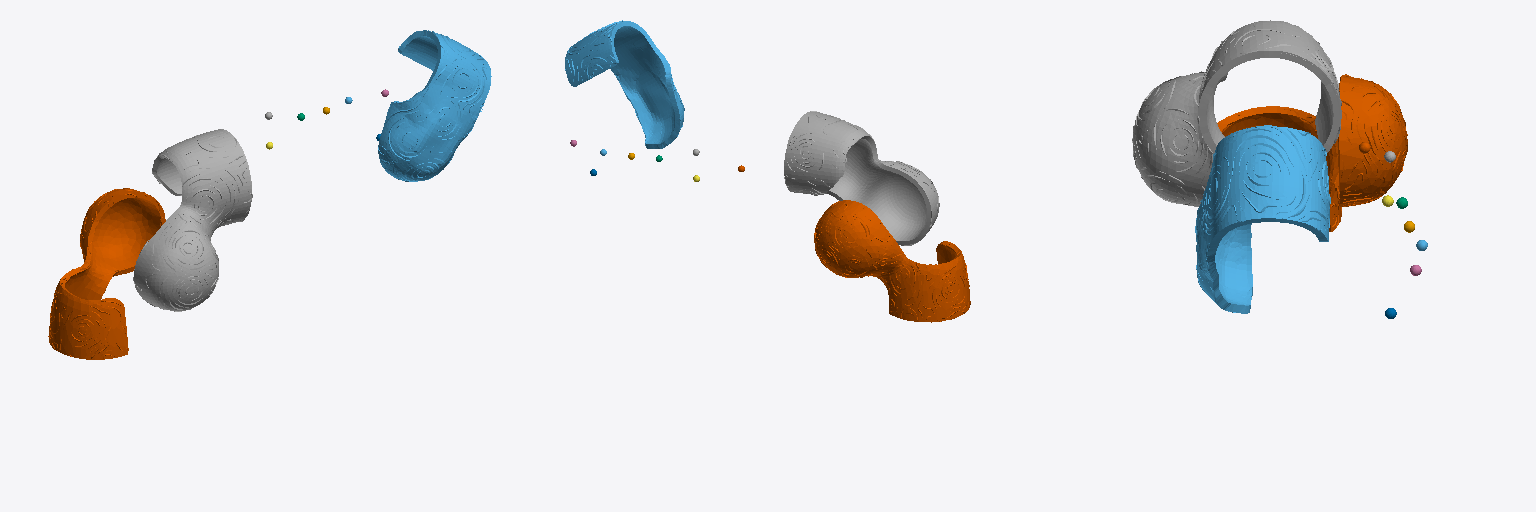
--- Facts derived from the render (not from the file) ---
3 views of the same robot in one strip: view 1: azimuth 30°, elevation 25°; view 2: azimuth 150°, elevation 25°; view 3: azimuth 270°, elevation 25° (orthographic).
Robot: fr3 — 49 links, 48 joints (7 revolute, 41 fixed); root link base; default pose: all joints at 0 but 2 set to mid-range because 0 is outside their limits (fr3_joint4 = -1.6, fr3_joint6 = 2.53).
Links seen in each view (by area): view 1: link4_skin, link3_skin, link6_skin; view 2: link4_skin, link3_skin, link6_skin; view 3: link6_skin, link4_skin, link3_skin.
Boxes of the visible links, x1,y1,x2,y2 form: link4_skin: (133, 129, 252, 311); link3_skin: (48, 188, 165, 359); link6_skin: (378, 30, 491, 181); link4_skin: (784, 111, 939, 245); link3_skin: (814, 200, 970, 322); link6_skin: (565, 20, 684, 148); link6_skin: (1195, 125, 1330, 313); link4_skin: (1132, 20, 1341, 206); link3_skin: (1217, 74, 1407, 231).
Bounding box of the posed robot: 0.6435 × 0.2543 × 0.5748 m (x, y, z).
3 mesh visuals loaded from 13 distinct referenced files (3 binary STL); not drawn: 10 (reference not matched to a file when rendering).

robot.urdf — fr3:
<?xml version="1.0" ?>
<!-- =================================================================================== -->
<!-- |    This document was autogenerated by xacro from [local-path]/ros2_ws/install/gentact_ros_tools/share/gentact_ros_tools/urdf/robot/fr3_full_skin.xacro | -->
<!-- |    EDITING THIS FILE BY HAND IS NOT RECOMMENDED                                 | -->
<!-- =================================================================================== -->
<!-- =================================================================================== -->
<!-- |    This document was autogenerated by xacro from fr3.urdf.xacro                 | -->
<!-- |    EDITING THIS FILE BY HAND IS NOT RECOMMENDED                                 | -->
<!-- =================================================================================== -->
<robot name="fr3">
  <!-- safety_distance: Minimum safety distance in [m] by which the collision volumes are expanded and which is enforced during robot motions -->
  <!-- arm_id: Namespace of the robot arm. Serves to differentiate between arms in case of multiple instances. -->
  <!-- joint_limits: description of the joint limits that comes from a YAML file. Example definition: ${xacro.load_yaml('$(find gentact_ros_tools)/robots/fr3/joint_limits.yaml')} -->
  <!-- kinematics: description of the kinematics that comes from a YAML file. Example definition: ${xacro.load_yaml('$(find gentact_ros_tools)/robots/fr3/kinematics.yaml')} -->
  <!-- inertials: description of the inertials that comes from a YAML file. Example definition: ${xacro.load_yaml('$(find gentact_ros_tools)/robots/fr3/inertials.yaml')} -->
  <!-- dynamics: description of the dynamics that comes from a YAML file. Example definition: ${xacro.load_yaml('$(find gentact_ros_tools)/robots/fr3/dynamics.yaml')} -->
  <link name="base">
      </link>
  <joint name="fr3_base_joint" type="fixed">
    <parent link="base"/>
    <child link="fr3_link0"/>
    <origin rpy="0 0 0" xyz="0 0 0"/>
  </joint>
  <!-- sub-link defining detailed meshes for collision with environment -->
  <link name="fr3_link0">
    <visual name="fr3_link0_visual">
      <geometry>
        <mesh filename="package://gentact_ros_tools/meshes/robot_arms/fr3/visual/link0.dae"/>
      </geometry>
    </visual>
    <collision name="fr3_link0_collision">
      <geometry>
        <mesh filename="package://gentact_ros_tools/meshes/robot_arms/fr3/collision/link0.stl"/>
      </geometry>
    </collision>
    <inertial>
      <origin rpy="0 0 0" xyz="-0.0172 0.0004 0.0745"/>
      <mass value="2.3966"/>
      <inertia ixx="0.009" ixy="0.0" ixz="0.002" iyy="0.0115" iyz="0.0" izz="0.0085"/>
    </inertial>
  </link>
  <!-- sub-link defining detailed meshes for collision with environment -->
  <link name="fr3_link1">
    <visual name="fr3_link1_visual">
      <geometry>
        <mesh filename="package://gentact_ros_tools/meshes/robot_arms/fr3/visual/link1.dae"/>
      </geometry>
    </visual>
    <collision name="fr3_link1_collision">
      <geometry>
        <mesh filename="package://gentact_ros_tools/meshes/robot_arms/fr3/collision/link1.stl"/>
      </geometry>
    </collision>
    <inertial>
      <origin rpy="0 0 0" xyz="0.0000004128 -0.0181251324 -0.0386035970"/>
      <mass value="2.9274653454"/>
      <inertia ixx="0.023927316485107913" ixy="1.3317903455714081e-05" ixz="-0.00011404774918616684" iyy="0.0224821613275756" iyz="-0.0019950320628240115" izz="0.006350098258530016"/>
    </inertial>
  </link>
  <joint name="fr3_joint1" type="revolute">
    <origin rpy="0 0 0" xyz="0 0 0.333"/>
    <parent link="fr3_link0"/>
    <child link="fr3_link1"/>
    <axis xyz="0 0 1"/>
    <limit effort="87.0" lower="-2.7437" upper="2.7437" velocity="2.62"/>
    <safety_controller k_position="100.0" k_velocity="40.0" soft_lower_limit="-2.7437" soft_upper_limit="2.7437"/>
    <dynamics D="1" K="7000" damping="0.003" friction="0.2" mu_coulomb="0" mu_viscous="16"/>
  </joint>
  <!-- sub-link defining detailed meshes for collision with environment -->
  <link name="fr3_link2">
    <visual name="fr3_link2_visual">
      <geometry>
        <mesh filename="package://gentact_ros_tools/meshes/robot_arms/fr3/visual/link2.dae"/>
      </geometry>
    </visual>
    <collision name="fr3_link2_collision">
      <geometry>
        <mesh filename="package://gentact_ros_tools/meshes/robot_arms/fr3/collision/link2.stl"/>
      </geometry>
    </collision>
    <inertial>
      <origin rpy="0 0 0" xyz="0.0031828864 -0.0743221644 0.0088146084"/>
      <mass value="2.9355370338"/>
      <inertia ixx="0.041938946257609425" ixy="0.00020257331521090626" ixz="0.004077784227179924" iyy="0.02514514885014724" iyz="-0.0042252158006570156" izz="0.06170214472888839"/>
    </inertial>
  </link>
  <joint name="fr3_joint2" type="revolute">
    <origin rpy="-1.570796326794897 0 0" xyz="0 0 0"/>
    <parent link="fr3_link1"/>
    <child link="fr3_link2"/>
    <axis xyz="0 0 1"/>
    <limit effort="87.0" lower="-1.7837" upper="1.7837" velocity="2.62"/>
    <safety_controller k_position="100.0" k_velocity="40.0" soft_lower_limit="-1.7837" soft_upper_limit="1.7837"/>
    <dynamics D="1" K="7000" damping="0.003" friction="0.2" mu_coulomb="0" mu_viscous="16"/>
  </joint>
  <!-- [m] -->
  <link name="link2_skin">
    <visual>
      <origin rpy="0 0 0" xyz="0 0 0"/>
      <geometry>
        <mesh filename="package://gentact_ros_tools/meshes/skin/self-cap/link2_fancy.stl" scale="1 1 1"/>
      </geometry>
    </visual>
  </link>
  <joint name="link2_base_joint" type="fixed">
    <origin rpy="1.5707 0 0" xyz="0 0 0"/>
    <parent link="fr3_link2"/>
    <child link="link2_skin"/>
  </joint>
  <joint name="link2_sensor_3_joint" type="fixed">
    <origin rpy="1.670 -0.000 -2.166" xyz="-0.048 0.113 -0.006"/>
    <axis xyz="-0.824 0.558 -0.099"/>
    <parent link="link2_skin"/>
    <child link="link2_sensor_3"/>
  </joint>
  <link name="link2_sensor_3">
    <visual>
      <geometry>
        <sphere radius="0.0"/>
        <!-- [m] -->
      </geometry>
    </visual>
    <collision>
      <geometry>
        <sphere radius="0.0"/>
        <!-- [m] -->
      </geometry>
    </collision>
  </link>
  <joint name="link2_sensor_2_joint" type="fixed">
    <origin rpy="1.526 -0.000 2.508" xyz="0.032 0.053 0.147"/>
    <axis xyz="0.592 0.805 0.044"/>
    <parent link="link2_skin"/>
    <child link="link2_sensor_2"/>
  </joint>
  <link name="link2_sensor_2">
    <visual>
      <geometry>
        <sphere radius="0.0"/>
        <!-- [m] -->
      </geometry>
    </visual>
    <collision>
      <geometry>
        <sphere radius="0.0"/>
        <!-- [m] -->
      </geometry>
    </collision>
  </link>
  <joint name="link2_sensor_0_joint" type="fixed">
    <origin rpy="1.549 -0.000 -2.303" xyz="-0.046 0.040 0.162"/>
    <axis xyz="-0.744 0.668 0.022"/>
    <parent link="link2_skin"/>
    <child link="link2_sensor_0"/>
  </joint>
  <link name="link2_sensor_0">
    <visual>
      <geometry>
        <sphere radius="0.0"/>
        <!-- [m] -->
      </geometry>
    </visual>
    <collision>
      <geometry>
        <sphere radius="0.0"/>
        <!-- [m] -->
      </geometry>
    </collision>
  </link>
  <joint name="link2_sensor_4_joint" type="fixed">
    <origin rpy="1.513 -0.000 2.207" xyz="0.050 0.110 0.007"/>
    <axis xyz="0.803 0.593 0.058"/>
    <parent link="link2_skin"/>
    <child link="link2_sensor_4"/>
  </joint>
  <link name="link2_sensor_4">
    <visual>
      <geometry>
        <sphere radius="0.0"/>
        <!-- [m] -->
      </geometry>
    </visual>
    <collision>
      <geometry>
        <sphere radius="0.0"/>
        <!-- [m] -->
      </geometry>
    </collision>
  </link>
  <joint name="link2_sensor_1_joint" type="fixed">
    <origin rpy="1.107 0.000 3.050" xyz="0.004 0.074 0.093"/>
    <axis xyz="0.081 0.89 0.448"/>
    <parent link="link2_skin"/>
    <child link="link2_sensor_1"/>
  </joint>
  <link name="link2_sensor_1">
    <visual>
      <geometry>
        <sphere radius="0.0"/>
        <!-- [m] -->
      </geometry>
    </visual>
    <collision>
      <geometry>
        <sphere radius="0.0"/>
        <!-- [m] -->
      </geometry>
    </collision>
  </link>
  <joint name="link2_sensor_5_joint" type="fixed">
    <origin rpy="0.869 -0.000 3.063" xyz="0.001 0.117 0.045"/>
    <axis xyz="0.06 0.761 0.646"/>
    <parent link="link2_skin"/>
    <child link="link2_sensor_5"/>
  </joint>
  <link name="link2_sensor_5">
    <visual>
      <geometry>
        <sphere radius="0.0"/>
        <!-- [m] -->
      </geometry>
    </visual>
    <collision>
      <geometry>
        <sphere radius="0.0"/>
        <!-- [m] -->
      </geometry>
    </collision>
  </link>
  <joint name="link2_sensor_6_joint" type="fixed">
    <origin rpy="-0.676 -3.142 -0.578" xyz="0.019 0.111 -0.046"/>
    <axis xyz="0.342 0.524 -0.78"/>
    <parent link="link2_skin"/>
    <child link="link2_sensor_6"/>
  </joint>
  <link name="link2_sensor_6">
    <visual>
      <geometry>
        <sphere radius="0.0"/>
        <!-- [m] -->
      </geometry>
    </visual>
    <collision>
      <geometry>
        <sphere radius="0.0"/>
        <!-- [m] -->
      </geometry>
    </collision>
  </link>
  <!-- sub-link defining detailed meshes for collision with environment -->
  <link name="fr3_link3">
    <visual name="fr3_link3_visual">
      <geometry>
        <mesh filename="package://gentact_ros_tools/meshes/robot_arms/fr3/visual/link3.dae"/>
      </geometry>
    </visual>
    <collision name="fr3_link3_collision">
      <geometry>
        <mesh filename="package://gentact_ros_tools/meshes/robot_arms/fr3/collision/link3.stl"/>
      </geometry>
    </collision>
    <inertial>
      <origin rpy="0 0 0" xyz="0.0407015686 -0.0048200565 -0.0289730823"/>
      <mass value="2.2449013699"/>
      <inertia ixx="0.02410142547240885" ixy="0.002404694559042109" ixz="-0.002856269270114313" iyy="0.01974053266708178" iyz="-0.002104212683891874" izz="0.019044494482244823"/>
    </inertial>
  </link>
  <joint name="fr3_joint3" type="revolute">
    <origin rpy="1.570796326794897 0 0" xyz="0 -0.316 0"/>
    <parent link="fr3_link2"/>
    <child link="fr3_link3"/>
    <axis xyz="0 0 1"/>
    <limit effort="87.0" lower="-2.9007" upper="2.9007" velocity="2.62"/>
    <safety_controller k_position="100.0" k_velocity="40.0" soft_lower_limit="-2.9007" soft_upper_limit="2.9007"/>
    <dynamics D="1" K="7000" damping="0.003" friction="0.2" mu_coulomb="0" mu_viscous="16"/>
  </joint>
  <!-- [m] -->
  <link name="link3_skin">
    <visual>
      <origin rpy="0 0 0" xyz="0 0 0"/>
      <geometry>
        <mesh filename="package://gentact_ros_tools/meshes/skin/self-cap/link3_fancy.stl" scale="1 1 1"/>
      </geometry>
    </visual>
  </link>
  <joint name="link3_base_joint" type="fixed">
    <origin rpy="0 0 0" xyz="0 0 0"/>
    <parent link="fr3_link3"/>
    <child link="link3_skin"/>
  </joint>
  <joint name="link3_sensor_5_joint" type="fixed">
    <origin rpy="1.392 0.000 -3.082" xyz="0.008 0.051 -0.043"/>
    <axis xyz="-0.059 0.982 0.178"/>
    <parent link="link3_skin"/>
    <child link="link3_sensor_5"/>
  </joint>
  <link name="link3_sensor_5">
    <visual>
      <geometry>
        <sphere radius="0.0"/>
        <!-- [m] -->
      </geometry>
    </visual>
    <collision>
      <geometry>
        <sphere radius="0.0"/>
        <!-- [m] -->
      </geometry>
    </collision>
  </link>
  <joint name="link3_sensor_2_joint" type="fixed">
    <origin rpy="1.768 -0.000 2.918" xyz="0.097 0.113 -0.015"/>
    <axis xyz="0.217 0.956 -0.196"/>
    <parent link="link3_skin"/>
    <child link="link3_sensor_2"/>
  </joint>
  <link name="link3_sensor_2">
    <visual>
      <geometry>
        <sphere radius="0.0"/>
        <!-- [m] -->
      </geometry>
    </visual>
    <collision>
      <geometry>
        <sphere radius="0.0"/>
        <!-- [m] -->
      </geometry>
    </collision>
  </link>
  <joint name="link3_sensor_1_joint" type="fixed">
    <origin rpy="1.433 0.000 -0.799" xyz="-0.041 -0.037 -0.071"/>
    <axis xyz="-0.71 -0.691 0.137"/>
    <parent link="link3_skin"/>
    <child link="link3_sensor_1"/>
  </joint>
  <link name="link3_sensor_1">
    <visual>
      <geometry>
        <sphere radius="0.0"/>
        <!-- [m] -->
      </geometry>
    </visual>
    <collision>
      <geometry>
        <sphere radius="0.0"/>
        <!-- [m] -->
      </geometry>
    </collision>
  </link>
  <joint name="link3_sensor_6_joint" type="fixed">
    <origin rpy="1.189 -0.000 2.713" xyz="0.107 0.106 0.026"/>
    <axis xyz="0.386 0.844 0.373"/>
    <parent link="link3_skin"/>
    <child link="link3_sensor_6"/>
  </joint>
  <link name="link3_sensor_6">
    <visual>
      <geometry>
        <sphere radius="0.0"/>
        <!-- [m] -->
      </geometry>
    </visual>
    <collision>
      <geometry>
        <sphere radius="0.0"/>
        <!-- [m] -->
      </geometry>
    </collision>
  </link>
  <joint name="link3_sensor_7_joint" type="fixed">
    <origin rpy="1.084 -0.000 -2.868" xyz="0.067 0.106 0.031"/>
    <axis xyz="-0.239 0.851 0.468"/>
    <parent link="link3_skin"/>
    <child link="link3_sensor_7"/>
  </joint>
  <link name="link3_sensor_7">
    <visual>
      <geometry>
        <sphere radius="0.0"/>
        <!-- [m] -->
      </geometry>
    </visual>
    <collision>
      <geometry>
        <sphere radius="0.0"/>
        <!-- [m] -->
      </geometry>
    </collision>
  </link>
  <joint name="link3_sensor_4_joint" type="fixed">
    <origin rpy="1.838 0.000 -2.747" xyz="0.057 0.108 -0.019"/>
    <axis xyz="-0.371 0.89 -0.264"/>
    <parent link="link3_skin"/>
    <child link="link3_sensor_4"/>
  </joint>
  <link name="link3_sensor_4">
    <visual>
      <geometry>
        <sphere radius="0.0"/>
        <!-- [m] -->
      </geometry>
    </visual>
    <collision>
      <geometry>
        <sphere radius="0.0"/>
        <!-- [m] -->
      </geometry>
    </collision>
  </link>
  <joint name="link3_sensor_0_joint" type="fixed">
    <origin rpy="1.426 0.000 -2.050" xyz="-0.050 0.023 -0.063"/>
    <axis xyz="-0.878 0.457 0.145"/>
    <parent link="link3_skin"/>
    <child link="link3_sensor_0"/>
  </joint>
  <link name="link3_sensor_0">
    <visual>
      <geometry>
        <sphere radius="0.0"/>
        <!-- [m] -->
      </geometry>
    </visual>
    <collision>
      <geometry>
        <sphere radius="0.0"/>
        <!-- [m] -->
      </geometry>
    </collision>
  </link>
  <joint name="link3_sensor_3_joint" type="fixed">
    <origin rpy="-0.311 3.142 -0.185" xyz="0.085 0.086 -0.050"/>
    <axis xyz="0.056 0.301 -0.952"/>
    <parent link="link3_skin"/>
    <child link="link3_sensor_3"/>
  </joint>
  <link name="link3_sensor_3">
    <visual>
      <geometry>
        <sphere radius="0.0"/>
        <!-- [m] -->
      </geometry>
    </visual>
    <collision>
      <geometry>
        <sphere radius="0.0"/>
        <!-- [m] -->
      </geometry>
    </collision>
  </link>
  <!-- sub-link defining detailed meshes for collision with environment -->
  <link name="fr3_link4">
    <visual name="fr3_link4_visual">
      <geometry>
        <mesh filename="package://gentact_ros_tools/meshes/robot_arms/fr3/visual/link4.dae"/>
      </geometry>
    </visual>
    <collision name="fr3_link4_collision">
      <geometry>
        <mesh filename="package://gentact_ros_tools/meshes/robot_arms/fr3/collision/link4.stl"/>
      </geometry>
    </collision>
    <inertial>
      <origin rpy="0 0 0" xyz="-0.0459100965 0.0630492960 -0.0085187868"/>
      <mass value="2.6155955791"/>
      <inertia ixx="0.03452998321913202" ixy="0.01322552265982813" ixz="0.01015142998484113" iyy="0.028881621933049058" iyz="-0.0009762833870704552" izz="0.04125471171146641"/>
    </inertial>
  </link>
  <joint name="fr3_joint4" type="revolute">
    <origin rpy="1.570796326794897 0 0" xyz="0.0825 0 0"/>
    <parent link="fr3_link3"/>
    <child link="fr3_link4"/>
    <axis xyz="0 0 1"/>
    <limit effort="87.0" lower="-3.0421" upper="-0.1518" velocity="2.62"/>
    <safety_controller k_position="100.0" k_velocity="40.0" soft_lower_limit="-3.0421" soft_upper_limit="-0.1518"/>
    <dynamics D="1" K="7000" damping="0.003" friction="0.2" mu_coulomb="0" mu_viscous="16"/>
  </joint>
  <!-- [m] -->
  <link name="link4_skin">
    <visual>
      <origin rpy="0 0 0" xyz="0 0 0"/>
      <geometry>
        <mesh filename="package://gentact_ros_tools/meshes/skin/self-cap/link4_fancy.stl" scale="1 1 1"/>
      </geometry>
    </visual>
  </link>
  <joint name="link4_base_joint" type="fixed">
    <origin rpy="-1.5707 0 0" xyz="0 0 0"/>
    <parent link="fr3_link4"/>
    <child link="link4_skin"/>
  </joint>
  <joint name="link4_sensor_0_joint" type="fixed">
    <origin rpy="1.737 -0.000 -0.054" xyz="-0.075 -0.054 0.047"/>
    <axis xyz="-0.053 -0.985 -0.165"/>
    <parent link="link4_skin"/>
    <child link="link4_sensor_0"/>
  </joint>
  <link name="link4_sensor_0">
    <visual>
      <geometry>
        <sphere radius="0.0"/>
        <!-- [m] -->
      </geometry>
    </visual>
    <collision>
      <geometry>
        <sphere radius="0.0"/>
        <!-- [m] -->
      </geometry>
    </collision>
  </link>
  <joint name="link4_sensor_4_joint" type="fixed">
    <origin rpy="1.674 -0.000 -2.632" xyz="-0.112 0.052 0.084"/>
    <axis xyz="-0.486 0.868 -0.103"/>
    <parent link="link4_skin"/>
    <child link="link4_sensor_4"/>
  </joint>
  <link name="link4_sensor_4">
    <visual>
      <geometry>
        <sphere radius="0.0"/>
        <!-- [m] -->
      </geometry>
    </visual>
    <collision>
      <geometry>
        <sphere radius="0.0"/>
        <!-- [m] -->
      </geometry>
    </collision>
  </link>
  <joint name="link4_sensor_5_joint" type="fixed">
    <origin rpy="0.791 -0.000 1.064" xyz="0.034 -0.088 0.038"/>
    <axis xyz="0.622 -0.345 0.703"/>
    <parent link="link4_skin"/>
    <child link="link4_sensor_5"/>
  </joint>
  <link name="link4_sensor_5">
    <visual>
      <geometry>
        <sphere radius="0.0"/>
        <!-- [m] -->
      </geometry>
    </visual>
    <collision>
      <geometry>
        <sphere radius="0.0"/>
        <!-- [m] -->
      </geometry>
    </collision>
  </link>
  <joint name="link4_sensor_1_joint" type="fixed">
    <origin rpy="1.657 0.000 -0.764" xyz="-0.044 -0.101 -0.003"/>
    <axis xyz="-0.689 -0.719 -0.086"/>
    <parent link="link4_skin"/>
    <child link="link4_sensor_1"/>
  </joint>
  <link name="link4_sensor_1">
    <visual>
      <geometry>
        <sphere radius="0.0"/>
        <!-- [m] -->
      </geometry>
    </visual>
    <collision>
      <geometry>
        <sphere radius="0.0"/>
        <!-- [m] -->
      </geometry>
    </collision>
  </link>
  <joint name="link4_sensor_2_joint" type="fixed">
    <origin rpy="0.448 0.000 -0.975" xyz="-0.024 -0.076 0.049"/>
    <axis xyz="-0.358 -0.243 0.901"/>
    <parent link="link4_skin"/>
    <child link="link4_sensor_2"/>
  </joint>
  <link name="link4_sensor_2">
    <visual>
      <geometry>
        <sphere radius="0.0"/>
        <!-- [m] -->
      </geometry>
    </visual>
    <collision>
      <geometry>
        <sphere radius="0.0"/>
        <!-- [m] -->
      </geometry>
    </collision>
  </link>
  <joint name="link4_sensor_3_joint" type="fixed">
    <origin rpy="1.688 -0.000 0.150" xyz="0.010 -0.117 -0.008"/>
    <axis xyz="0.148 -0.982 -0.117"/>
    <parent link="link4_skin"/>
    <child link="link4_sensor_3"/>
  </joint>
  <link name="link4_sensor_3">
    <visual>
      <geometry>
        <sphere radius="0.0"/>
        <!-- [m] -->
      </geometry>
    </visual>
    <collision>
      <geometry>
        <sphere radius="0.0"/>
        <!-- [m] -->
      </geometry>
    </collision>
  </link>
  <!-- sub-link defining detailed meshes for collision with environment -->
  <link name="fr3_link5">
    <visual name="fr3_link5_visual">
      <geometry>
        <mesh filename="package://gentact_ros_tools/meshes/robot_arms/fr3/visual/link5.dae"/>
      </geometry>
    </visual>
    <collision name="fr3_link5_collision">
      <geometry>
        <mesh filename="package://gentact_ros_tools/meshes/robot_arms/fr3/collision/link5.stl"/>
      </geometry>
    </collision>
    <inertial>
      <origin rpy="0 0 0" xyz="-0.0016039605 0.0292536262 -0.0972965990"/>
      <mass value="2.3271207594"/>
      <inertia ixx="0.051610278463662895" ixy="-0.005715173387783472" ixz="-0.0035673167625872135" iyy="0.04787729713371481" iyz="0.010673985108535986" izz="0.016423625579357254"/>
    </inertial>
  </link>
  <joint name="fr3_joint5" type="revolute">
    <origin rpy="-1.570796326794897 0 0" xyz="-0.0825 0.384 0"/>
    <parent link="fr3_link4"/>
    <child link="fr3_link5"/>
    <axis xyz="0 0 1"/>
    <limit effort="12.0" lower="-2.8065" upper="2.8065" velocity="5.26"/>
    <safety_controller k_position="100.0" k_velocity="40.0" soft_lower_limit="-2.8065" soft_upper_limit="2.8065"/>
    <dynamics D="1" K="7000" damping="0.003" friction="0.2" mu_coulomb="0" mu_viscous="16"/>
  </joint>
  <!-- [m] -->
  <link name="link5_skin">
    <visual>
      <origin rpy="0 0 0" xyz="0 0 0"/>
      <geometry>
        <mesh filename="package://gentact_ros_tools/meshes/skin/spad/link5_spad.stl" scale="1 1 1"/>
      </geometry>
    </visual>
  </link>
  <joint name="link5_base_joint" type="fixed">
    <origin rpy="1.4 3.14 3.14" xyz="0 0.06 -0.083"/>
    <parent link="fr3_link5"/>
    <child link="link5_skin"/>
  </joint>
  <joint name="link5_sensor_0_joint" type="fixed">
    <origin rpy="0.002 -0.045 0.0" xyz="0.0 -0.039 0.054"/>
    <axis xyz="-0.045 -0.002 0.999"/>
    <parent link="link5_skin"/>
    <child link="link5_sensor_0"/>
  </joint>
  <link name="link5_sensor_0">
    <visual>
      <geometry>
        <sphere radius="0.005"/>
        <!-- [m] -->
      </geometry>
    </visual>
    <collision>
      <geometry>
        <sphere radius="0.005"/>
        <!-- [m] -->
      </geometry>
    </collision>
  </link>
  <joint name="link5_sensor_1_joint" type="fixed">
    <origin rpy="-0.084 -0.039 0.002" xyz="-0.002 -0.080 0.058"/>
    <axis xyz="-0.039 0.084 0.996"/>
    <parent link="link5_skin"/>
    <child link="link5_sensor_1"/>
  </joint>
  <link name="link5_sensor_1">
    <visual>
      <geometry>
        <sphere radius="0.005"/>
        <!-- [m] -->
      </geometry>
    </visual>
    <collision>
      <geometry>
        <sphere radius="0.005"/>
        <!-- [m] -->
      </geometry>
    </collision>
  </link>
  <joint name="link5_sensor_2_joint" type="fixed">
    <origin rpy="0.031 -0.045 -0.001" xyz="-0.002 0.003 0.055"/>
    <axis xyz="-0.045 -0.031 0.998"/>
    <parent link="link5_skin"/>
    <child link="link5_sensor_2"/>
  </joint>
  <link name="link5_sensor_2">
    <visual>
      <geometry>
        <sphere radius="0.005"/>
        <!-- [m] -->
      </geometry>
    </visual>
    <collision>
      <geometry>
        <sphere radius="0.005"/>
        <!-- [m] -->
      </geometry>
    </collision>
  </link>
  <joint name="link5_sensor_3_joint" type="fixed">
    <origin rpy="0.002 0.389 0.0" xyz="0.023 0.058 0.052"/>
    <axis xyz="0.379 -0.002 0.925"/>
    <parent link="link5_skin"/>
    <child link="link5_sensor_3"/>
  </joint>
  <link name="link5_sensor_3">
    <visual>
      <geometry>
        <sphere radius="0.005"/>
        <!-- [m] -->
      </geometry>
    </visual>
    <collision>
      <geometry>
        <sphere radius="0.005"/>
        <!-- [m] -->
      </geometry>
    </collision>
  </link>
  <joint name="link5_sensor_4_joint" type="fixed">
    <origin rpy="0.825 1.046 0.494" xyz="0.047 -0.108 0.026"/>
    <axis xyz="0.866 -0.368 0.34"/>
    <parent link="link5_skin"/>
    <child link="link5_sensor_4"/>
  </joint>
  <link name="link5_sensor_4">
    <visual>
      <geometry>
        <sphere radius="0.005"/>
        <!-- [m] -->
      </geometry>
    </visual>
    <collision>
      <geometry>
        <sphere radius="0.005"/>
        <!-- [m] -->
      </geometry>
    </collision>
  </link>
  <joint name="link5_sensor_5_joint" type="fixed">
    <origin rpy="0.421 -0.049 0.01" xyz="0.003 0.123 0.043"/>
    <axis xyz="0.049 0.408 0.912"/>
    <parent link="link5_skin"/>
    <child link="link5_sensor_5"/>
  </joint>
  <link name="link5_sensor_5">
    <visual>
      <geometry>
        <sphere radius="0.005"/>
        <!-- [m] -->
      </geometry>
    </visual>
    <collision>
      <geometry>
        <sphere radius="0.005"/>
        <!-- [m] -->
      </geometry>
    </collision>
  </link>
  <joint name="link5_sensor_6_joint" type="fixed">
    <origin rpy="0.905 -0.097 -0.047" xyz="-0.004 -0.130 0.044"/>
    <axis xyz="-0.097 -0.783 0.615"/>
    <parent link="link5_skin"/>
    <child link="link5_sensor_6"/>
  </joint>
  <link name="link5_sensor_6">
    <visual>
      <geometry>
        <sphere radius="0.005"/>
        <!-- [m] -->
      </geometry>
    </visual>
    <collision>
      <geometry>
        <sphere radius="0.005"/>
        <!-- [m] -->
      </geometry>
    </collision>
  </link>
  <joint name="link5_sensor_7_joint" type="fixed">
    <origin rpy="-0.002 -0.376 0.0" xyz="-0.019 0.059 0.054"/>
    <axis xyz="-0.367 0.002 0.93"/>
    <parent link="link5_skin"/>
    <child link="link5_sensor_7"/>
  </joint>
  <link name="link5_sensor_7">
    <visual>
      <geometry>
        <sphere radius="0.005"/>
        <!-- [m] -->
      </geometry>
    </visual>
    <collision>
      <geometry>
        <sphere radius="0.005"/>
        <!-- [m] -->
      </geometry>
    </collision>
  </link>
  <!-- sub-link defining detailed meshes for collision with environment -->
  <link name="fr3_link6">
    <visual name="fr3_link6_visual">
      <geometry>
        <mesh filename="package://gentact_ros_tools/meshes/robot_arms/fr3/visual/link6.dae"/>
      </geometry>
    </visual>
    <collision name="fr3_link6_collision">
      <geometry>
        <mesh filename="package://gentact_ros_tools/meshes/robot_arms/fr3/collision/link6.stl"/>
      </geometry>
    </collision>
    <inertial>
      <origin rpy="0 0 0" xyz="0.0597131221 -0.0410294666 -0.0101692726"/>
      <mass value="1.8170376524"/>
      <inertia ixx="0.005412333594383447" ixy="0.006193456360285834" ixz="0.0014219289306117652" iyy="0.014058329545509979" iyz="-0.0013140753741120031" izz="0.016080817924212554"/>
    </inertial>
  </link>
  <joint name="fr3_joint6" type="revolute">
    <origin rpy="1.570796326794897 0 0" xyz="0 0 0"/>
    <parent link="fr3_link5"/>
    <child link="fr3_link6"/>
    <axis xyz="0 0 1"/>
    <limit effort="12.0" lower="0.5445" upper="4.5169" velocity="4.18"/>
    <safety_controller k_position="100.0" k_velocity="40.0" soft_lower_limit="0.5445" soft_upper_limit="4.5169"/>
    <dynamics D="1" K="7000" damping="0.003" friction="0.2" mu_coulomb="0" mu_viscous="16"/>
  </joint>
  <!-- [m] -->
  <link name="link6_skin">
    <visual>
      <origin rpy="0 0 0" xyz="0 0 0"/>
      <geometry>
        <mesh filename="package://gentact_ros_tools/meshes/skin/self-cap/link6_big.stl" scale="1 1 1"/>
      </geometry>
    </visual>
  </link>
  <joint name="link6_base_joint" type="fixed">
    <origin rpy="-1.57079632679 0 0" xyz="0 0 0"/>
    <parent link="fr3_link6"/>
    <child link="link6_skin"/>
  </joint>
  <joint name="link6_sensor_0_joint" type="fixed">
    <origin rpy="1.726 0.000 -0.676" xyz="-0.0631 -0.0491 -0.0215"/>
    <axis xyz="-0.618 -0.771 -0.155"/>
    <parent link="link6_skin"/>
    <child link="link6_sensor_0"/>
  </joint>
  <link name="link6_sensor_0">
    <visual>
      <geometry>
        <sphere radius="0.0"/>
        <!-- [m] -->
      </geometry>
    </visual>
    <collision>
      <geometry>
        <sphere radius="0.0"/>
        <!-- [m] -->
      </geometry>
    </collision>
  </link>
  <joint name="link6_sensor_1_joint" type="fixed">
    <origin rpy="0.793 0.000 -0.103" xyz="-0.0353 -0.0490 0.0221"/>
    <axis xyz="-0.073 -0.709 0.702"/>
    <parent link="link6_skin"/>
    <child link="link6_sensor_1"/>
  </joint>
  <link name="link6_sensor_1">
    <visual>
      <geometry>
        <sphere radius="0.0"/>
        <!-- [m] -->
      </geometry>
    </visual>
    <collision>
      <geometry>
        <sphere radius="0.0"/>
        <!-- [m] -->
      </geometry>
    </collision>
  </link>
  <joint name="link6_sensor_2_joint" type="fixed">
    <origin rpy="1.557 -0.000 1.454" xyz="0.0913 -0.0053 -0.0027"/>
    <axis xyz="0.993 -0.117 0.014"/>
    <parent link="link6_skin"/>
    <child link="link6_sensor_2"/>
  </joint>
  <link name="link6_sensor_2">
    <visual>
      <geometry>
        <sphere radius="0.0"/>
        <!-- [m] -->
      </geometry>
    </visual>
    <collision>
      <geometry>
        <sphere radius="0.0"/>
        <!-- [m] -->
      </geometry>
    </collision>
  </link>
  <joint name="link6_sensor_3_joint" type="fixed">
    <origin rpy="1.563 -0.000 0.126" xyz="0.0078 -0.0561 -0.0028"/>
    <axis xyz="0.126 -0.992 0.008"/>
    <parent link="link6_skin"/>
    <child link="link6_sensor_3"/>
  </joint>
  <link name="link6_sensor_3">
    <visual>
      <geometry>
        <sphere radius="0.0"/>
        <!-- [m] -->
      </geometry>
    </visual>
    <collision>
      <geometry>
        <sphere radius="0.0"/>
        <!-- [m] -->
      </geometry>
    </collision>
  </link>
  <joint name="link6_sensor_4_joint" type="fixed">
    <origin rpy="1.548 -0.000 0.284" xyz="0.0575 -0.0444 -0.0024"/>
    <axis xyz="0.28 -0.96 0.023"/>
    <parent link="link6_skin"/>
    <child link="link6_sensor_4"/>
  </joint>
  <link name="link6_sensor_4">
    <visual>
      <geometry>
        <sphere radius="0.0"/>
        <!-- [m] -->
      </geometry>
    </visual>
    <collision>
      <geometry>
        <sphere radius="0.0"/>
        <!-- [m] -->
      </geometry>
    </collision>
  </link>
  <joint name="link6_sensor_5_joint" type="fixed">
    <origin rpy="1.529 0.000 3.086" xyz="0.0466 0.0474 0.0006"/>
    <axis xyz="0.055 0.998 0.042"/>
    <parent link="link6_skin"/>
    <child link="link6_sensor_5"/>
  </joint>
  <link name="link6_sensor_5">
    <visual>
      <geometry>
        <sphere radius="0.0"/>
        <!-- [m] -->
      </geometry>
    </visual>
    <collision>
      <geometry>
        <sphere radius="0.0"/>
        <!-- [m] -->
      </geometry>
    </collision>
  </link>
  <!-- sub-link defining detailed meshes for collision with environment -->
  <link name="fr3_link7">
    <visual name="fr3_link7_visual">
      <geometry>
        <mesh filename="package://gentact_ros_tools/meshes/robot_arms/fr3/visual/link7.dae"/>
      </geometry>
    </visual>
    <collision name="fr3_link7_collision">
      <geometry>
        <mesh filename="package://gentact_ros_tools/meshes/robot_arms/fr3/collision/link7.stl"/>
      </geometry>
    </collision>
    <inertial>
      <origin rpy="0 0 0" xyz="0.0045225817 0.0086261921 -0.0161633251"/>
      <mass value="0.6271432862"/>
      <inertia ixx="0.00021092389150104718" ixy="-2.433299114461931e-05" ixz="4.564480393778983e-05" iyy="0.00017718568002411474" iyz="8.744070223226438e-05" izz="5.993190599659971e-05"/>
    </inertial>
  </link>
  <joint name="fr3_joint7" type="revolute">
    <origin rpy="1.570796326794897 0 0" xyz="0.088 0 0"/>
    <parent link="fr3_link6"/>
    <child link="fr3_link7"/>
    <axis xyz="0 0 1"/>
    <limit effort="12.0" lower="-3.0159" upper="3.0159" velocity="5.26"/>
    <safety_controller k_position="100.0" k_velocity="40.0" soft_lower_limit="-3.0159" soft_upper_limit="3.0159"/>
    <dynamics D="1" K="7000" damping="0.003" friction="0.2" mu_coulomb="0" mu_viscous="16"/>
  </joint>
</robot>
